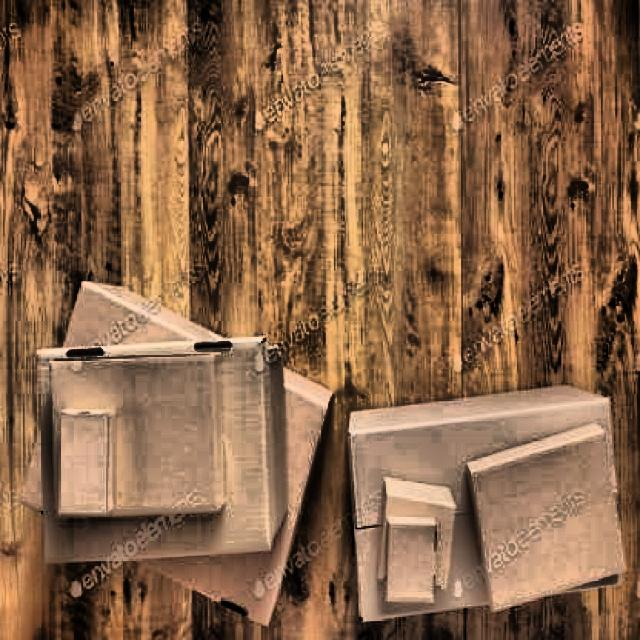Cardbox: (0, 254, 333, 639), (328, 382, 638, 640)
